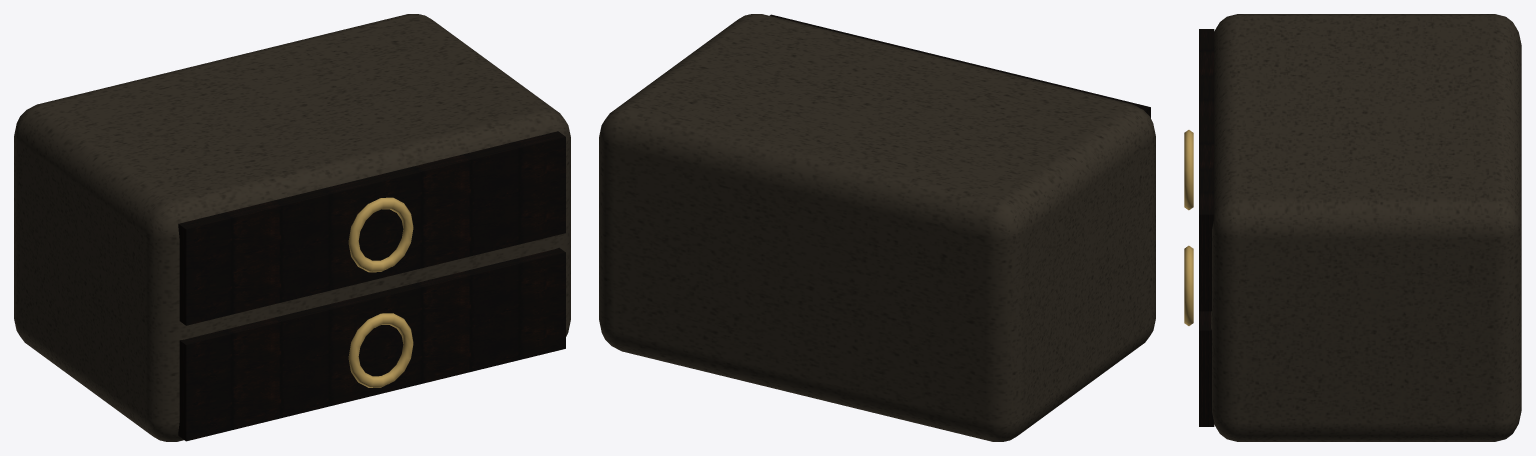
3 renders of one model, left to right at view 1: azimuth 30°, elevation 25°; view 2: azimuth 150°, elevation 25°; view 3: azimuth 270°, elevation 25°, orthographic.
Visible parts, largest first — view 1: d-drawers; view 2: d-drawers; view 3: d-drawers.
Boxes of the visible parts, <box> form: d-drawers: <box>14,14,570,441</box>; d-drawers: <box>599,14,1155,441</box>; d-drawers: <box>1184,14,1521,441</box>.
Bounding box in the file's own units: 0.55 × 0.3 × 0.38.
Materials: 4 (3 with a texture image).
